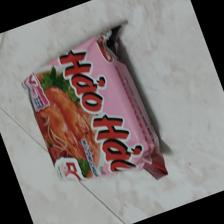Haohao: (21, 21, 168, 188)
